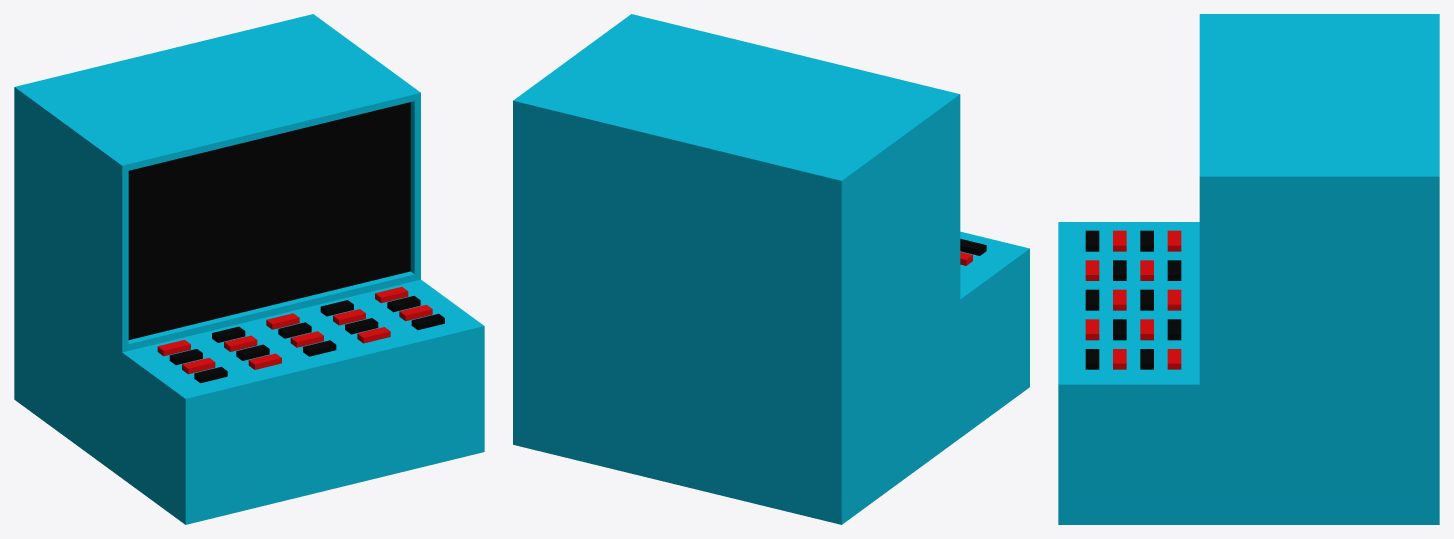
Rendered from bilgisayar konsolufbx.fbx.
3 renders of one model, left to right at view 1: azimuth 30°, elevation 25°; view 2: azimuth 150°, elevation 25°; view 3: azimuth 270°, elevation 25°, orthographic. The views are drawn at different scales.
Parts seen in each view (by area): view 1: Cube.008; view 2: Cube.008; view 3: Cube.008.
Part boxes in pixels (x1,y1,x2,y2): Cube.008: (14,14,484,524); Cube.008: (513,14,1029,524); Cube.008: (1058,14,1439,524).
Bounding box in the file's own units: 1087 × 1087 × 1078.
